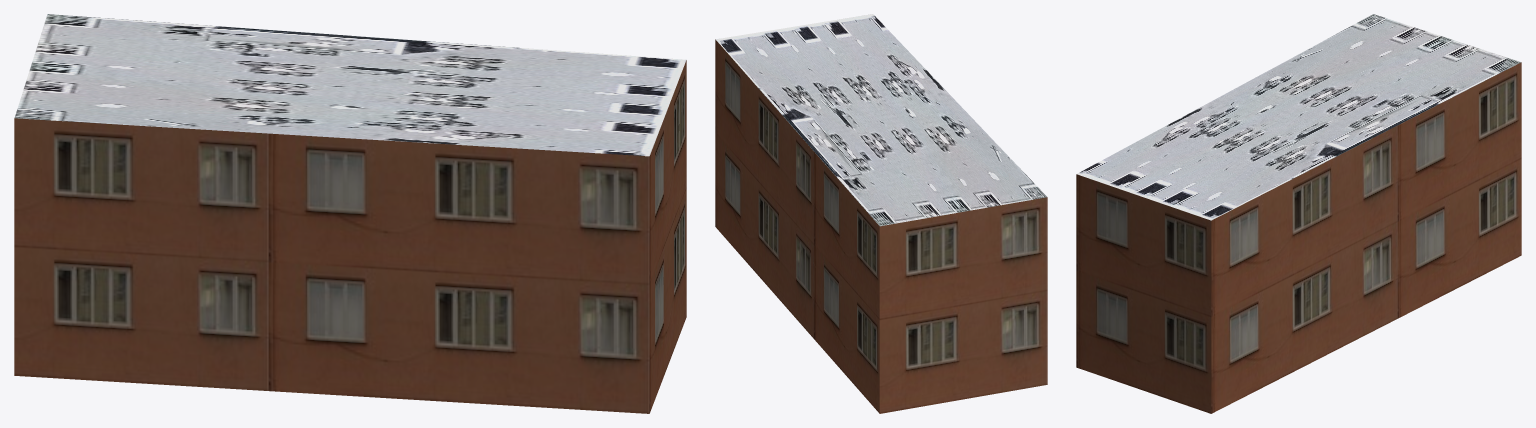
Rendered from ResTex__1055.fbx.
3 views of the same model, side by side, from view 1: azimuth 30°, elevation 25°; view 2: azimuth 150°, elevation 25°; view 3: azimuth 270°, elevation 25° (orthographic). The views are drawn at different scales.
Parts seen in each view (by area): view 1: CityEngineMaterial_20_m, CityEngineMaterial_2_m; view 2: CityEngineMaterial_20_m, CityEngineMaterial_2_m; view 3: CityEngineMaterial_20_m, CityEngineMaterial_2_m.
Boxes of the visible parts, box(x1,y1,x2,y2) form: CityEngineMaterial_20_m: box(14, 60, 686, 413); CityEngineMaterial_2_m: box(14, 14, 686, 156); CityEngineMaterial_20_m: box(715, 39, 1047, 413); CityEngineMaterial_2_m: box(716, 14, 1047, 226); CityEngineMaterial_20_m: box(1076, 62, 1521, 413); CityEngineMaterial_2_m: box(1077, 14, 1520, 220).
Size of the model in its own units: 13.75 by 6 by 12.52.
Materials: 2 (2 with a texture image).
